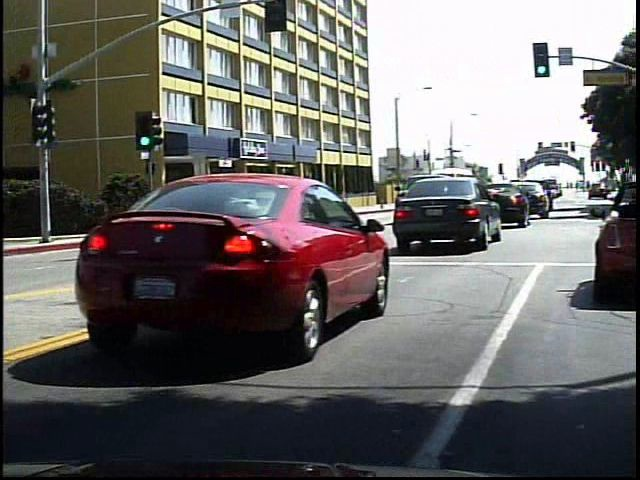person: (283, 186, 302, 225)
